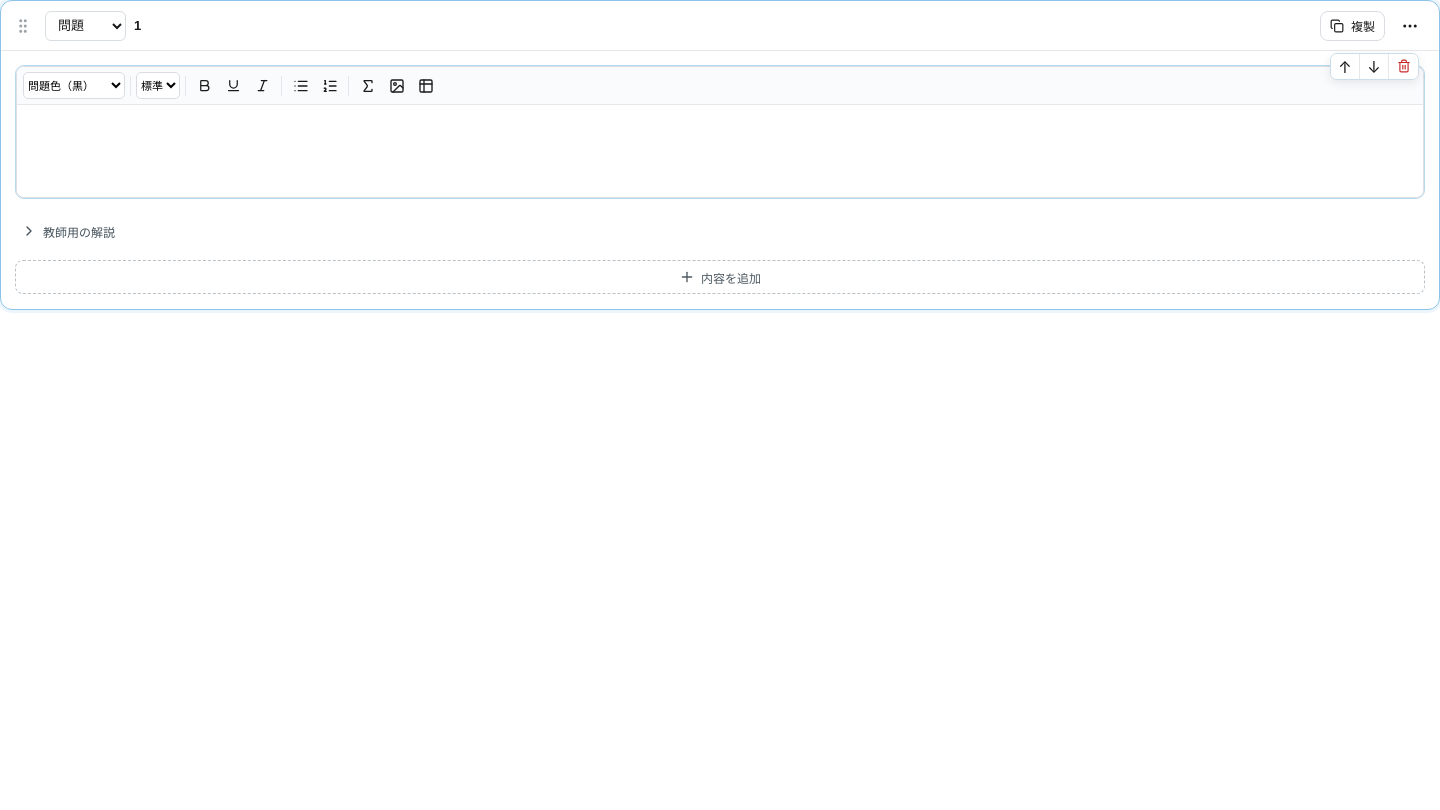
Test: ProblemCard › 問題メニューと内容追加メニューを外側の操作で閉じる
Click the button named "問題設定" at (1410, 26), box [1393,8,1427,42]
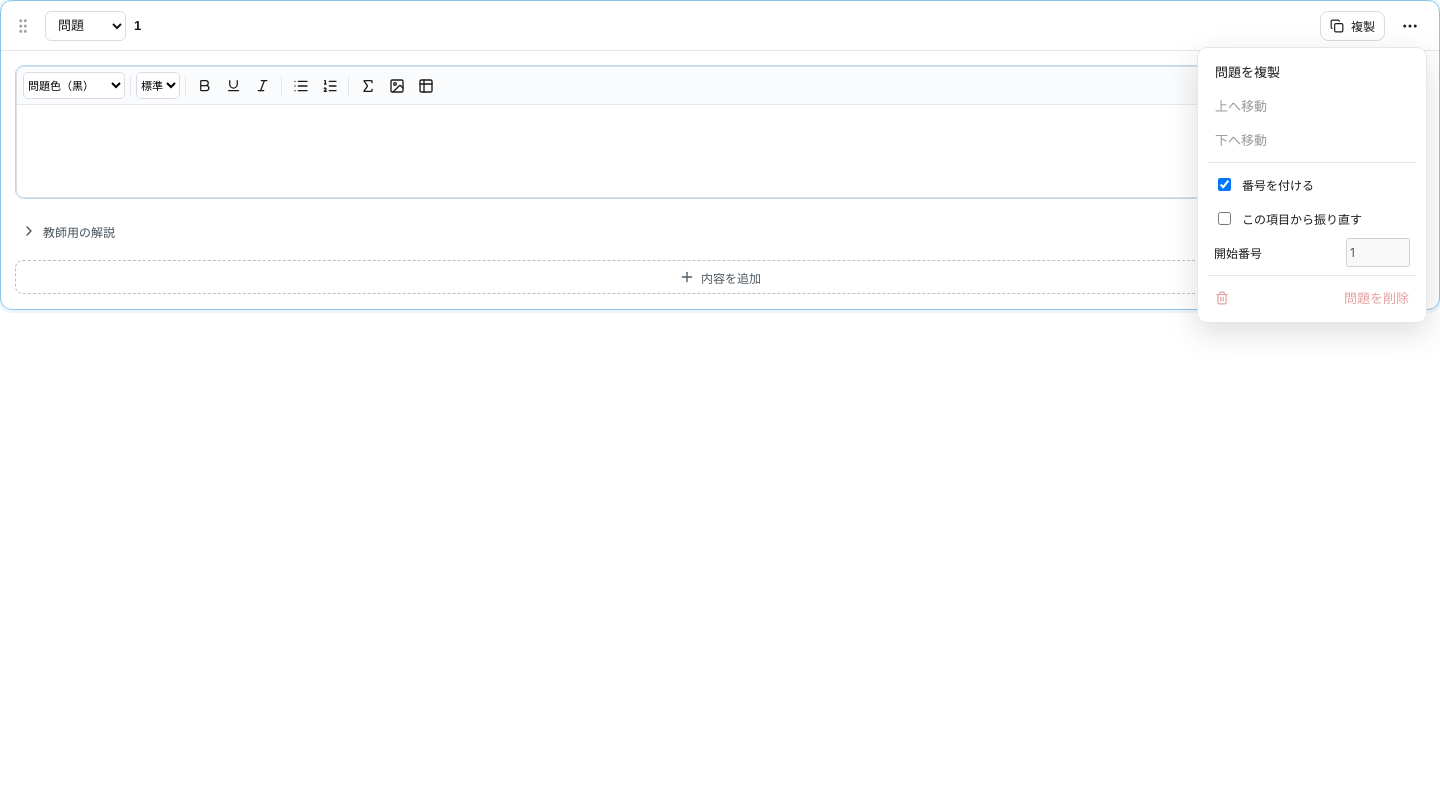
Now the button "問題を複製" is shown, box [1205,54,1419,88]
Press the mouse on the element that starts with "問題を複製" at (720, 405), box [0,0,1439,809]
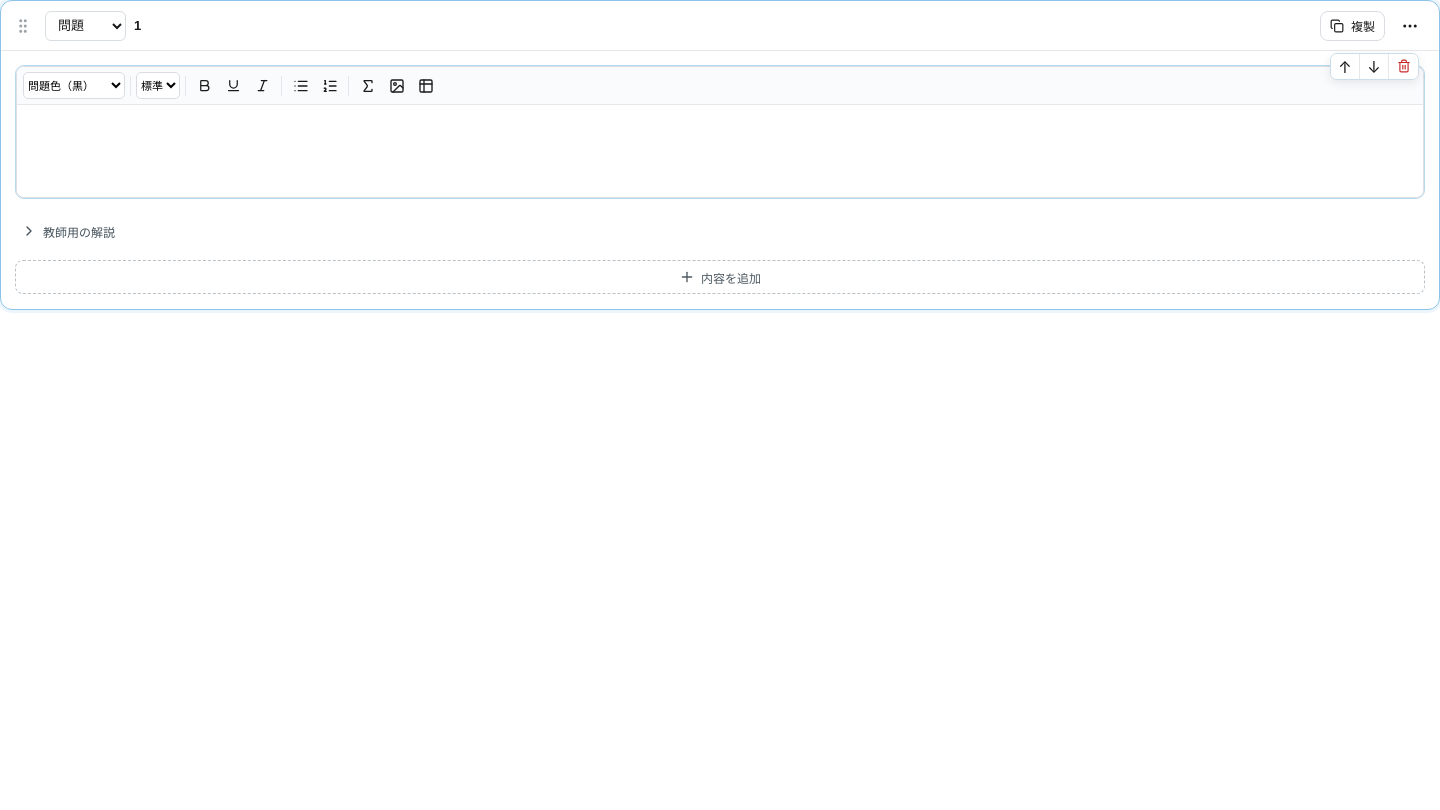
Now the button "問題を複製" is gone
Click the button "内容を追加" at (720, 277), box [15,260,1425,294]
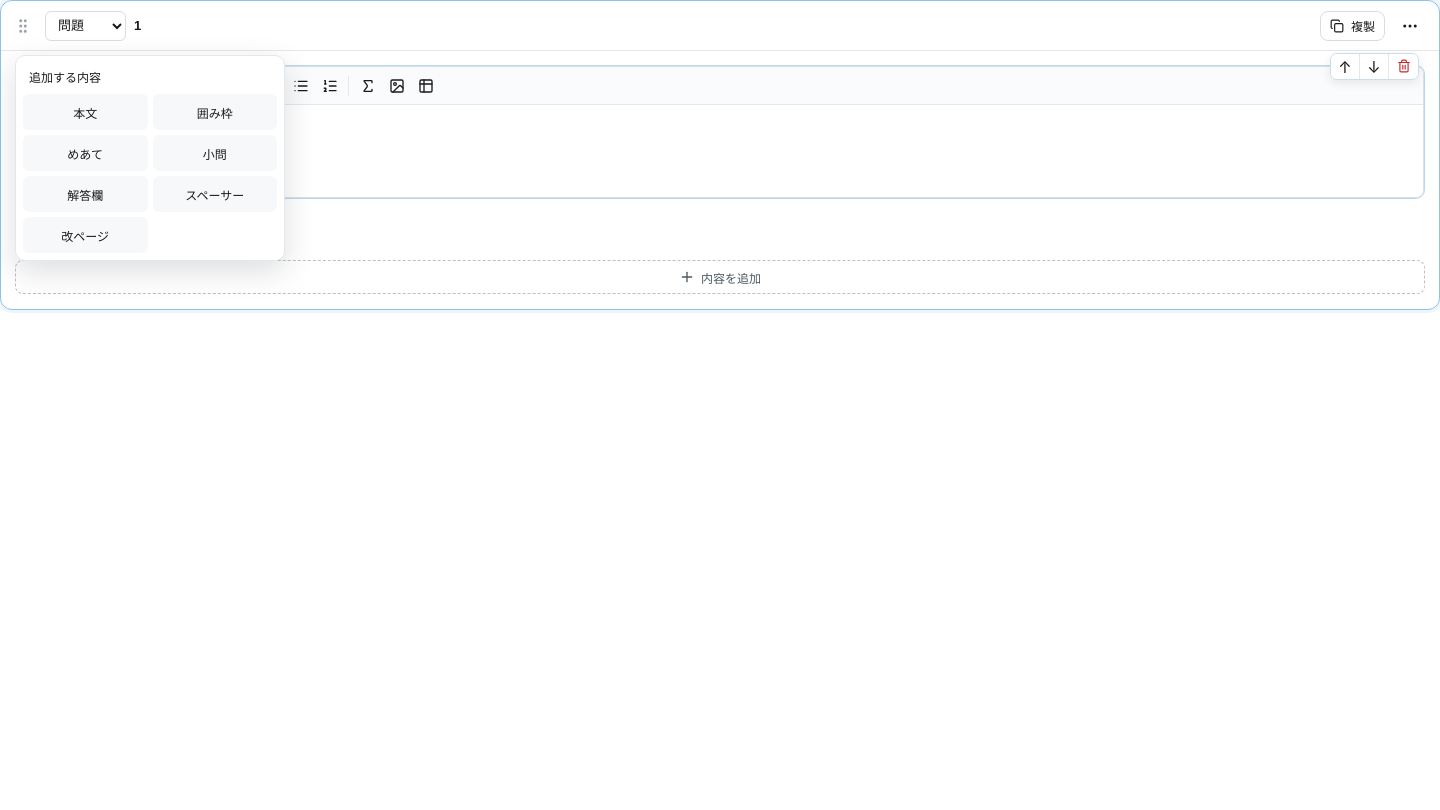
Now the element with class "add-content-popover" is shown, box [15,55,285,261]
Press the mouse on the element showing "1 複製 ↑ ↓ 教師用の解説 内容を追加 追加する内容 本文 囲み枠 めあて 小問 解答欄 スペーサー 改ページ" at (720, 405), box [0,0,1439,809]
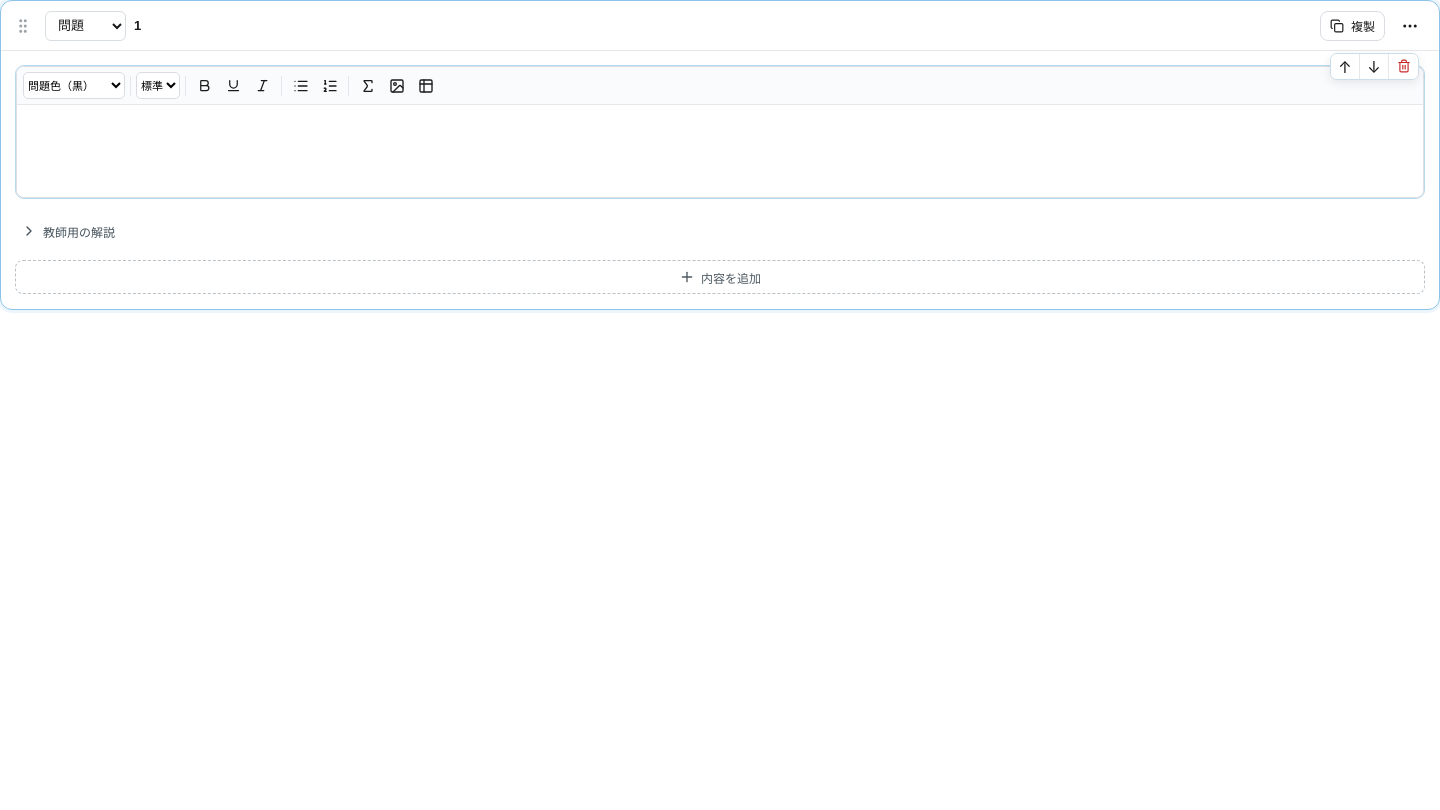
Now the element with class "add-content-popover" is gone
